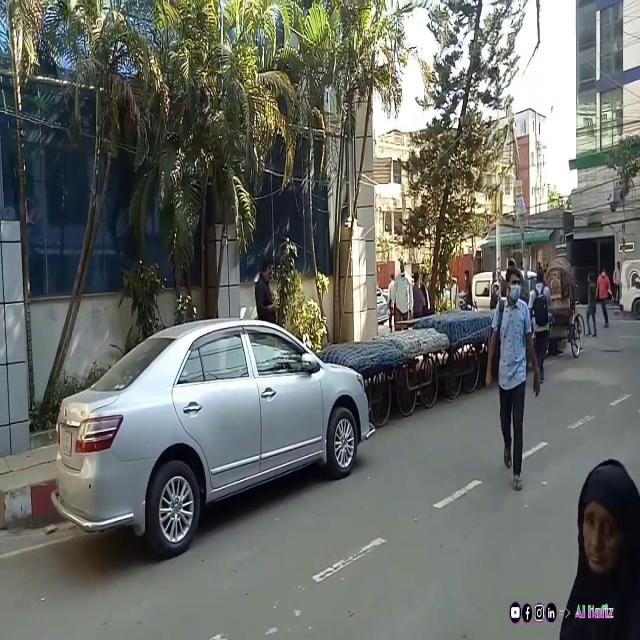silver: (53, 310, 375, 543)
